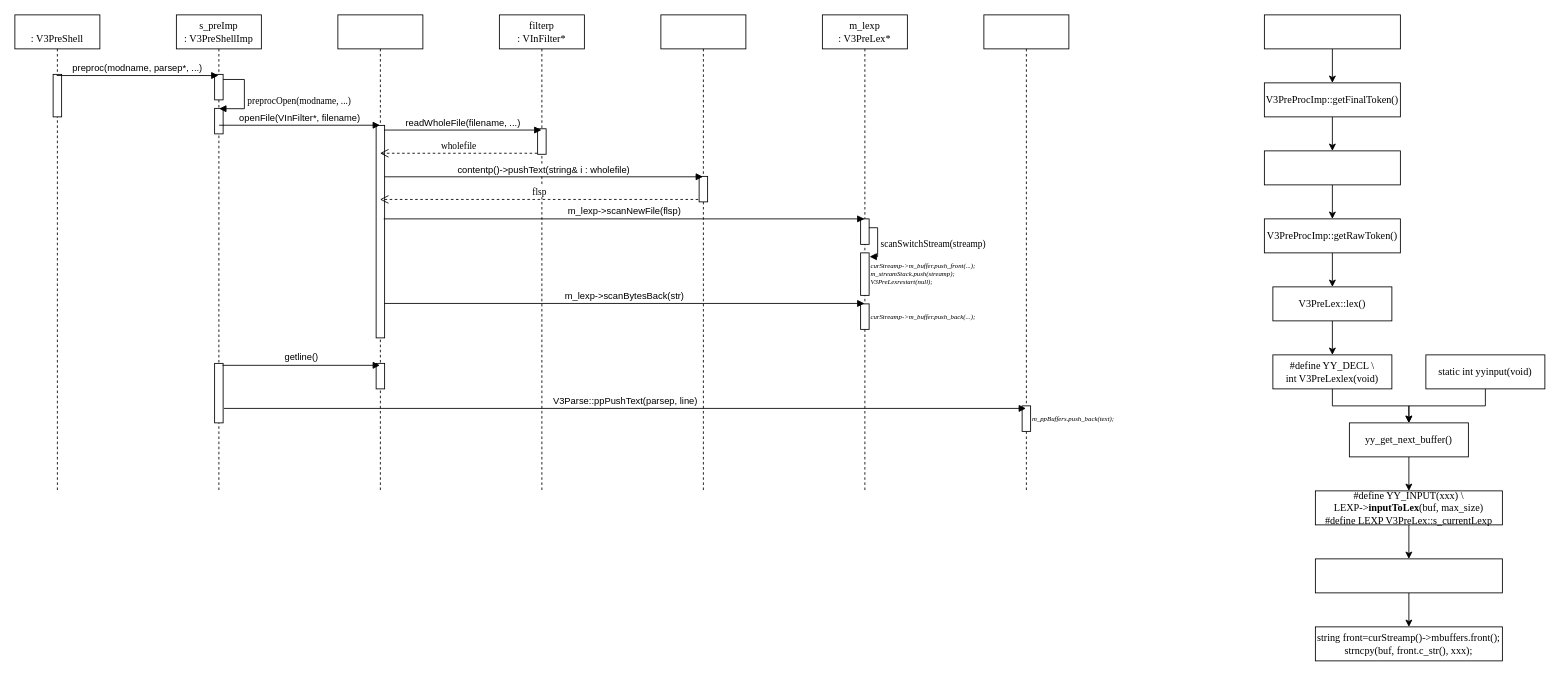
Some shapes in this 1560 by 676 pixel diagram are drawn without their labels. The box of each missing label's shape, as (x1, y1, x2, y2) in pixels:
flsp : FileLine*: (660, 14, 746, 493)
parsep : V3ParseImp*: (983, 14, 1069, 493)
s_preprocp : V3PreProcImp*: (337, 14, 423, 493)
V3PreLex::inputToLex(buf, max_size): (1315, 558, 1502, 593)
V3PreProcImp::getline(): (1264, 14, 1400, 49)
V3PreProcImp::getStateToken(): (1264, 150, 1400, 185)
